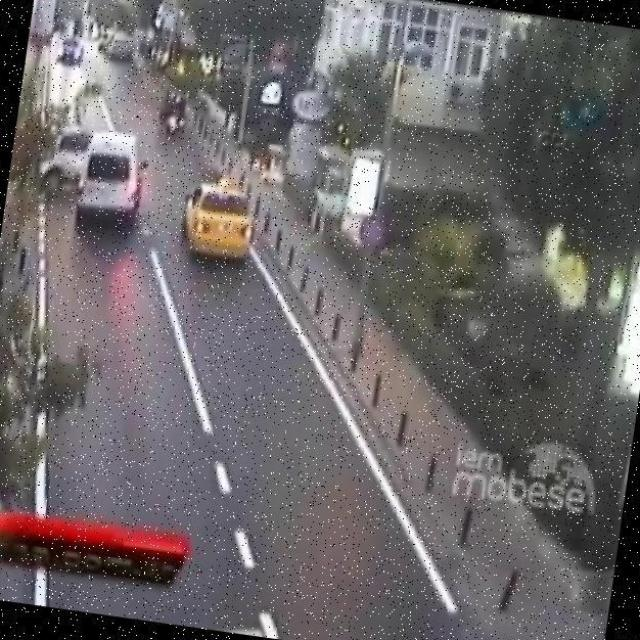accident: (22, 113, 170, 257)
